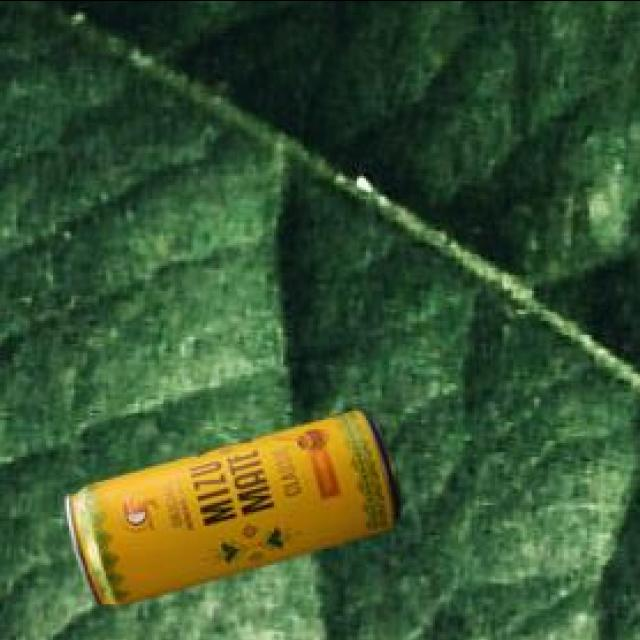logam: (70, 406, 404, 602)
